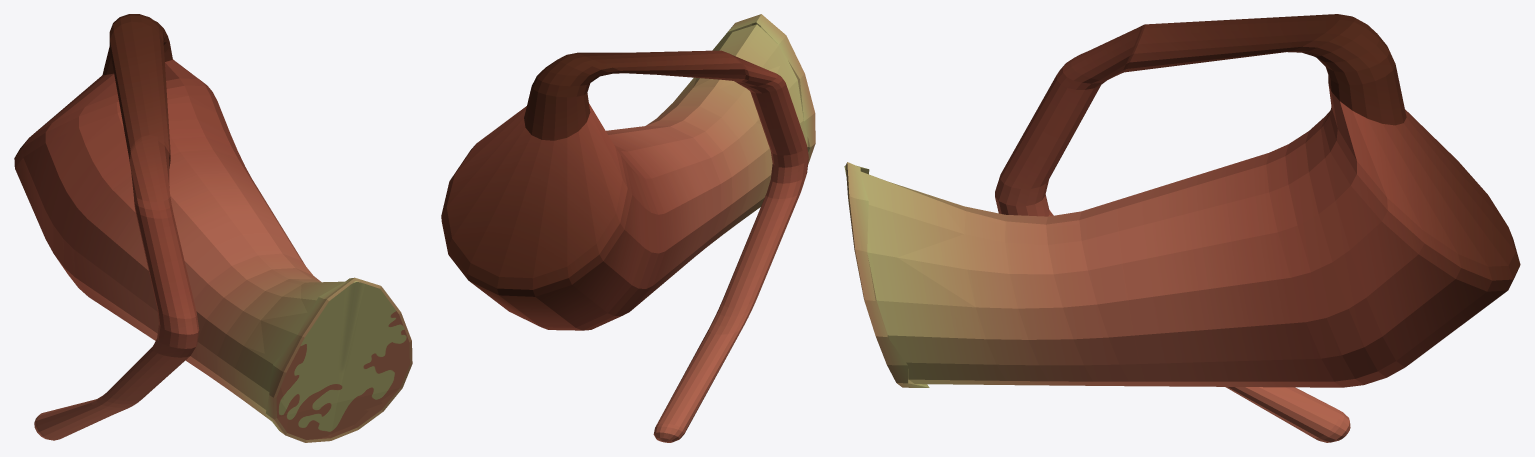
Rendered from l3House.glb.
3 views of the same model, side by side, from view 1: azimuth 30°, elevation 25°; view 2: azimuth 150°, elevation 25°; view 3: azimuth 270°, elevation 25° (orthographic). The views are drawn at different scales.
Parts seen in each view (by area): view 1: Circle.004; view 2: Circle.004; view 3: Circle.004.
Boxes of the visible parts, x1,y1,x2,y2 form: Circle.004: [14, 14, 412, 442]; Circle.004: [441, 14, 815, 442]; Circle.004: [844, 14, 1520, 442].
Size of the model in its own units: 2.38 by 4.2 by 5.47.
Materials: 2 (2 with a texture image).
